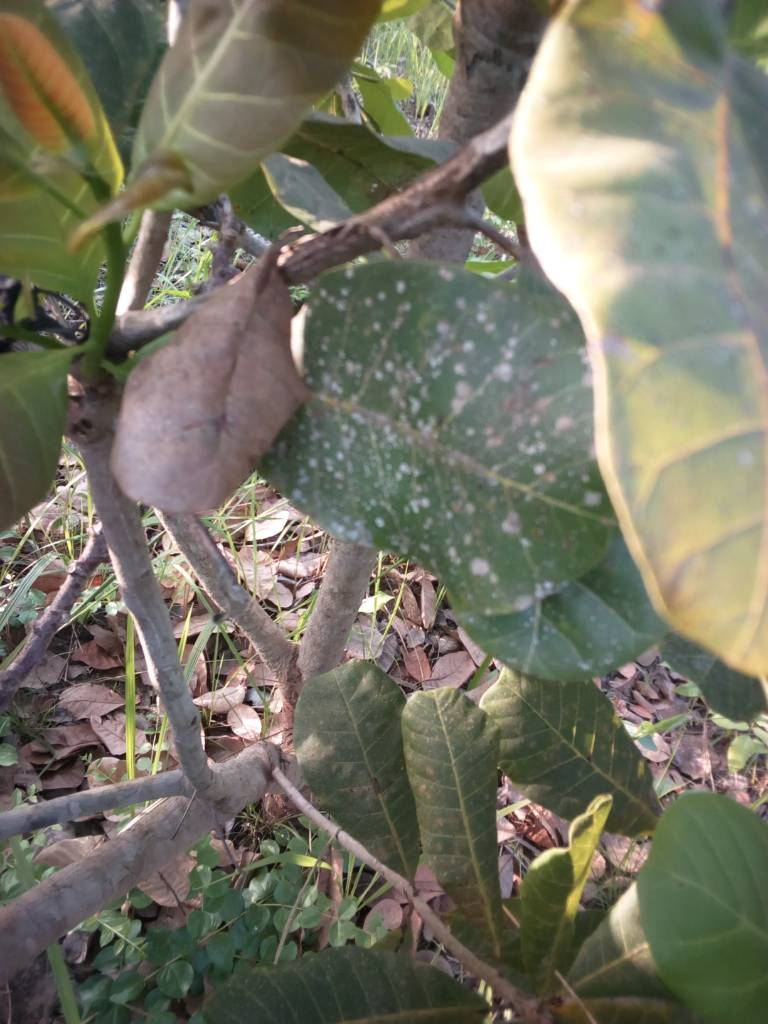Oidium: (280, 265, 620, 619)
